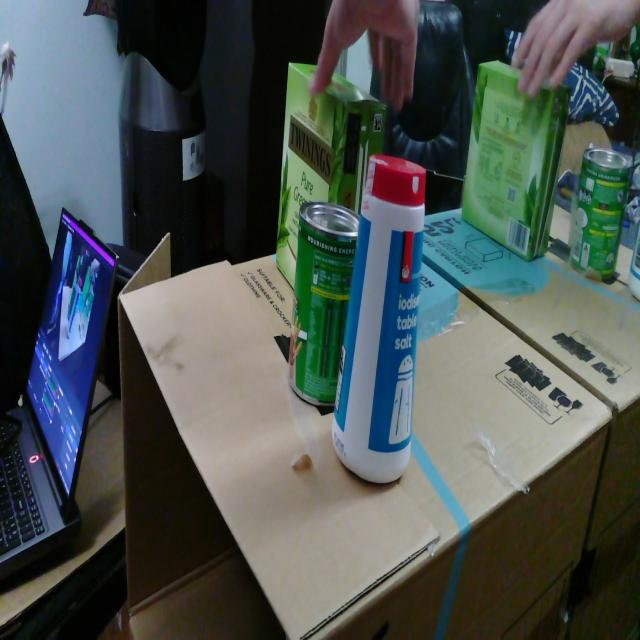nestle_milo_tin: (288, 201, 360, 406)
twinings_greentea_box: (276, 63, 386, 289)
woolworths_salt_bottle: (332, 155, 426, 483)
